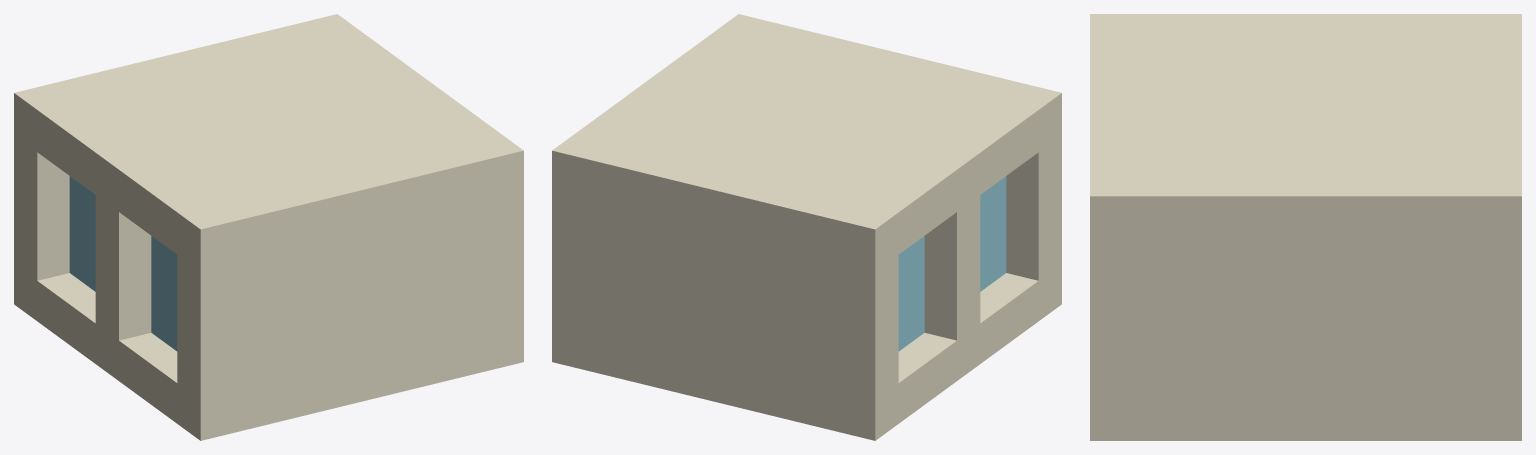
File: modularBuildings_035.fbx
3 views of the same model, side by side, from view 1: azimuth 30°, elevation 25°; view 2: azimuth 150°, elevation 25°; view 3: azimuth 270°, elevation 25° (orthographic). The views are drawn at different scales.
Visible parts, largest first — view 1: Brick.Brick.Mesh1 Group1 Model, Glass.Glass; view 2: Brick.Brick.Mesh1 Group1 Model, Glass.Glass; view 3: Brick.Brick.Mesh1 Group1 Model.
Part boxes in pixels (x1=…): Brick.Brick.Mesh1 Group1 Model: x1=14, y1=14, x2=523, y2=440; Glass.Glass: x1=69, y1=176, x2=177, y2=351; Brick.Brick.Mesh1 Group1 Model: x1=552, y1=14, x2=1061, y2=440; Glass.Glass: x1=898, y1=176, x2=1006, y2=351; Brick.Brick.Mesh1 Group1 Model: x1=1090, y1=14, x2=1521, y2=440.
Bounding box in the file's own units: 1 × 0.625 × 1.
